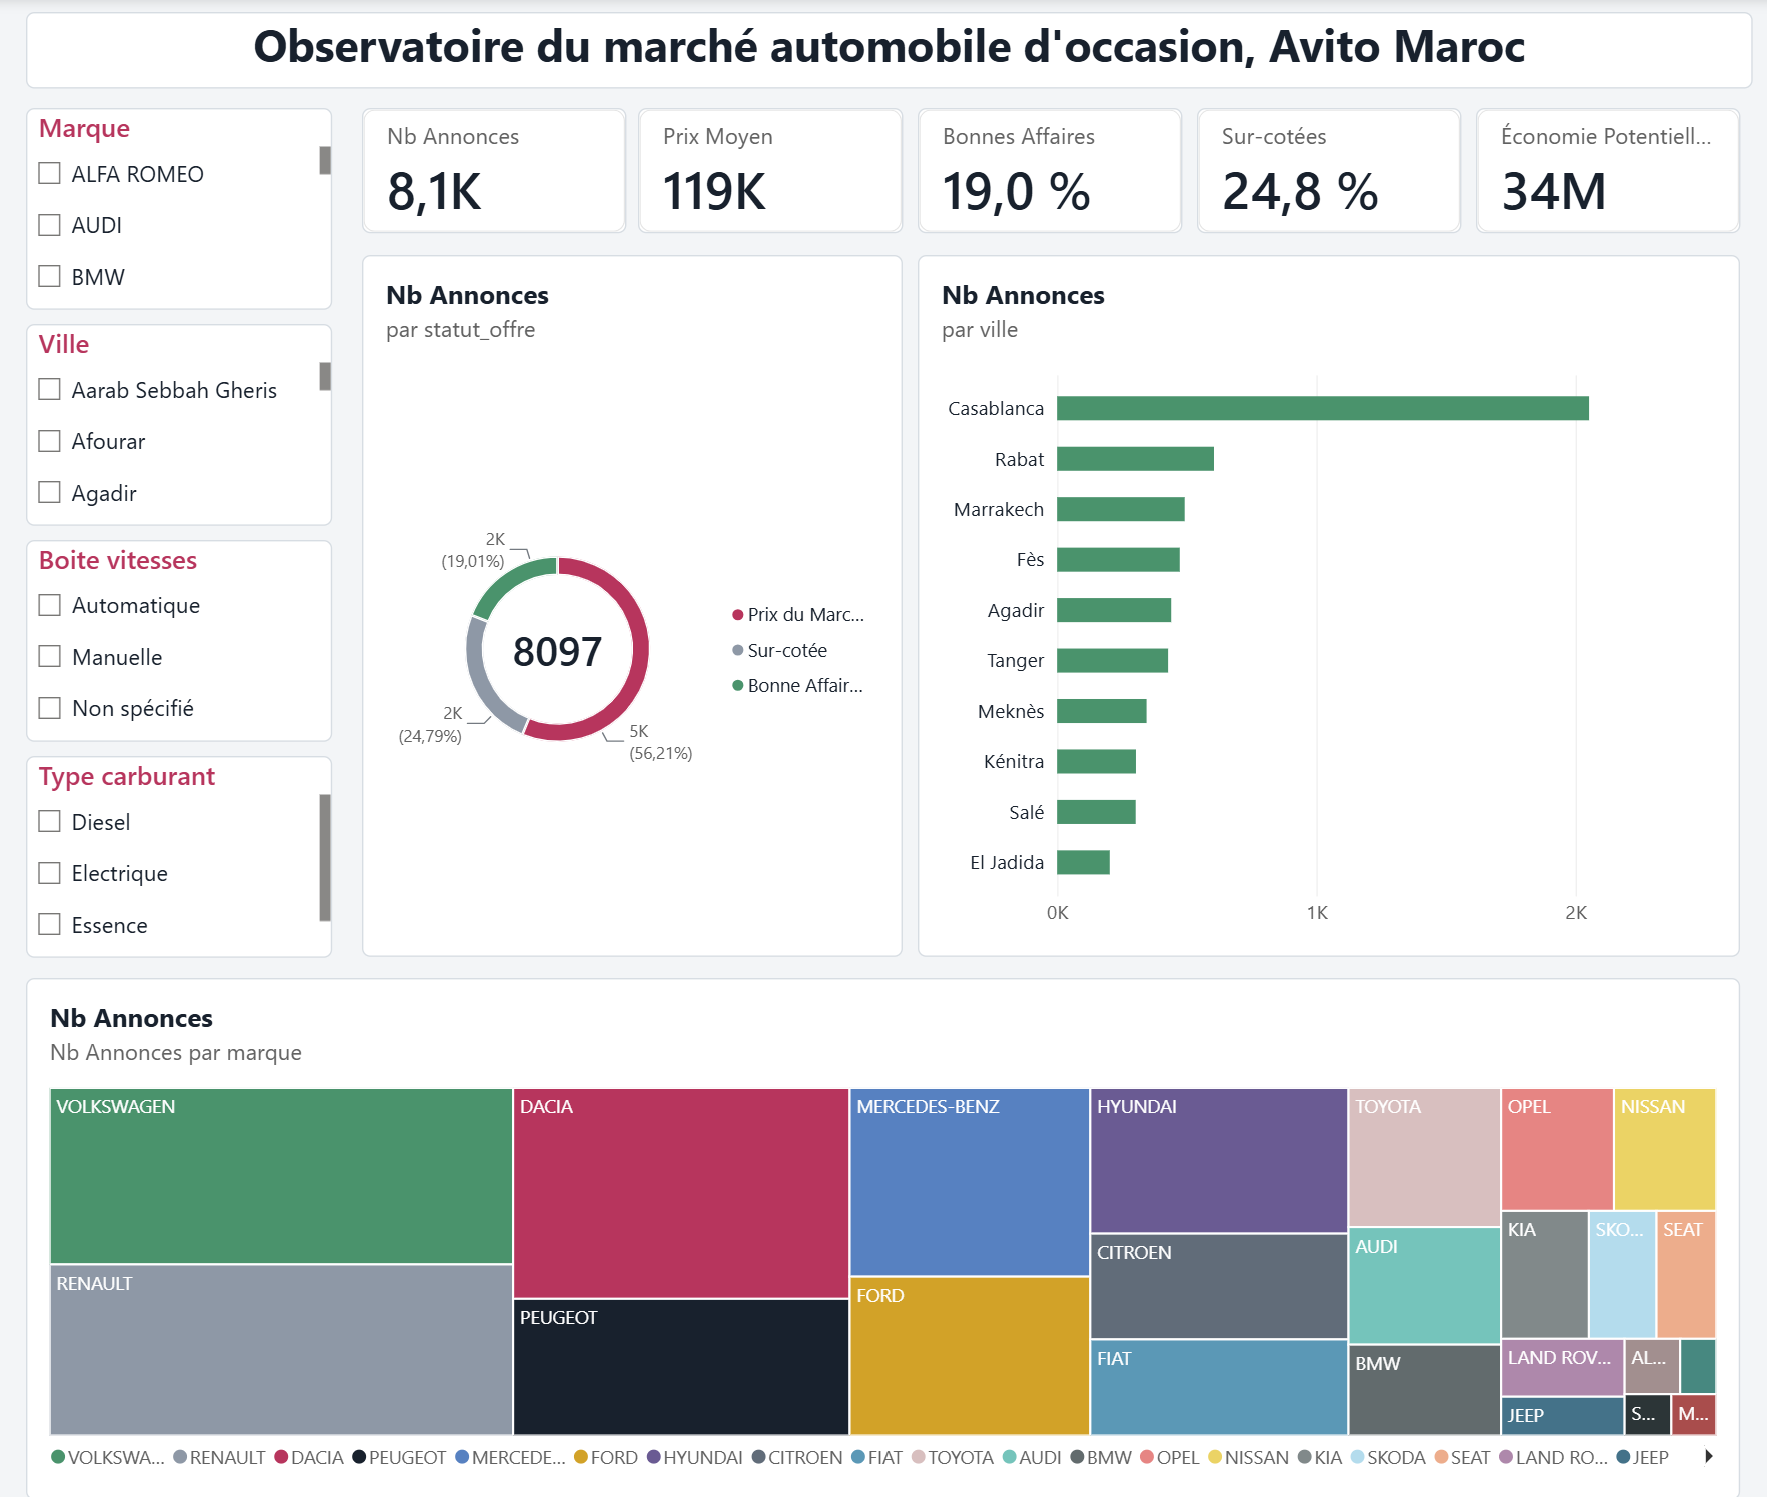

Layout of this report page (visuals, bound fields, positions):
{"tool":"powerbi","page":{"name":"Vue d'ensemble","canvas":[1920,1080],"ordinal":0},"visuals":[{"type":"textbox","box":[20,10,1240,55],"z":0},{"type":"slicer","fields":{"Values":["predictions_powerbi.marque"]},"box":[20,80,220,145],"z":1000},{"type":"barChart","fields":{"Category":["predictions_powerbi.ville"],"Y":["predictions_powerbi.Nb Annonces"]},"box":[659.6,185.4,590.7,504.4],"z":2000},{"type":"treemap","title":"Nb Annonces","fields":{"Group":["predictions_powerbi.marque"],"Values":["predictions_powerbi.Nb Annonces"]},"box":[19.4,704.9,1230.9,375.1],"z":3000},{"type":"donutChart","fields":{"Category":["predictions_powerbi.statut_offre"],"Y":["predictions_powerbi.Nb Annonces"]},"box":[260.8,185.4,388,504.4],"z":4000},{"type":"cardVisual","fields":{"Data":["predictions_powerbi.Nb Annonces"]},"box":[260,80,190,90],"z":5000},{"type":"cardVisual","fields":{"Data":["predictions_powerbi.Prix Moyen"]},"box":[460,80,190,90],"z":6000},{"type":"cardVisual","fields":{"Data":["predictions_powerbi.Sur-cotées"]},"box":[860,80,190,90],"z":7000},{"type":"cardVisual","fields":{"Data":["predictions_powerbi.Bonnes Affaires"]},"box":[660,80,190,90],"z":8000},{"type":"cardVisual","fields":{"Data":["predictions_powerbi.Économie Potentielle MAD"]},"box":[1060,80,190,90],"z":9000},{"type":"slicer","fields":{"Values":["predictions_powerbi.ville"]},"box":[20,235,220,145],"z":10000},{"type":"slicer","fields":{"Values":["predictions_powerbi.boite_vitesses"]},"box":[20,390,220,145],"z":11000},{"type":"slicer","fields":{"Values":["predictions_powerbi.type_carburant"]},"box":[20,545,220,145],"z":12000}]}

Visuals, with their boxes on the page's 1920x1080 design canvas (x1, y1, x2, y2). These are canvas units, not pixel positions in the 1767x1497 screenshot, which may show the page scaled, cropped or inside an application window:
textbox: [left=20, top=10, right=1260, bottom=65]
slicer - predictions_powerbi.marque: [left=20, top=80, right=240, bottom=225]
barChart - predictions_powerbi.ville x predictions_powerbi.Nb Annonces: [left=660, top=185, right=1250, bottom=690]
"Nb Annonces" treemap: [left=19, top=705, right=1250, bottom=1080]
donutChart - predictions_powerbi.statut_offre x predictions_powerbi.Nb Annonces: [left=261, top=185, right=649, bottom=690]
cardVisual - predictions_powerbi.Nb Annonces: [left=260, top=80, right=450, bottom=170]
cardVisual - predictions_powerbi.Prix Moyen: [left=460, top=80, right=650, bottom=170]
cardVisual - predictions_powerbi.Sur-cotées: [left=860, top=80, right=1050, bottom=170]
cardVisual - predictions_powerbi.Bonnes Affaires: [left=660, top=80, right=850, bottom=170]
cardVisual - predictions_powerbi.Économie Potentielle MAD: [left=1060, top=80, right=1250, bottom=170]
slicer - predictions_powerbi.ville: [left=20, top=235, right=240, bottom=380]
slicer - predictions_powerbi.boite_vitesses: [left=20, top=390, right=240, bottom=535]
slicer - predictions_powerbi.type_carburant: [left=20, top=545, right=240, bottom=690]
